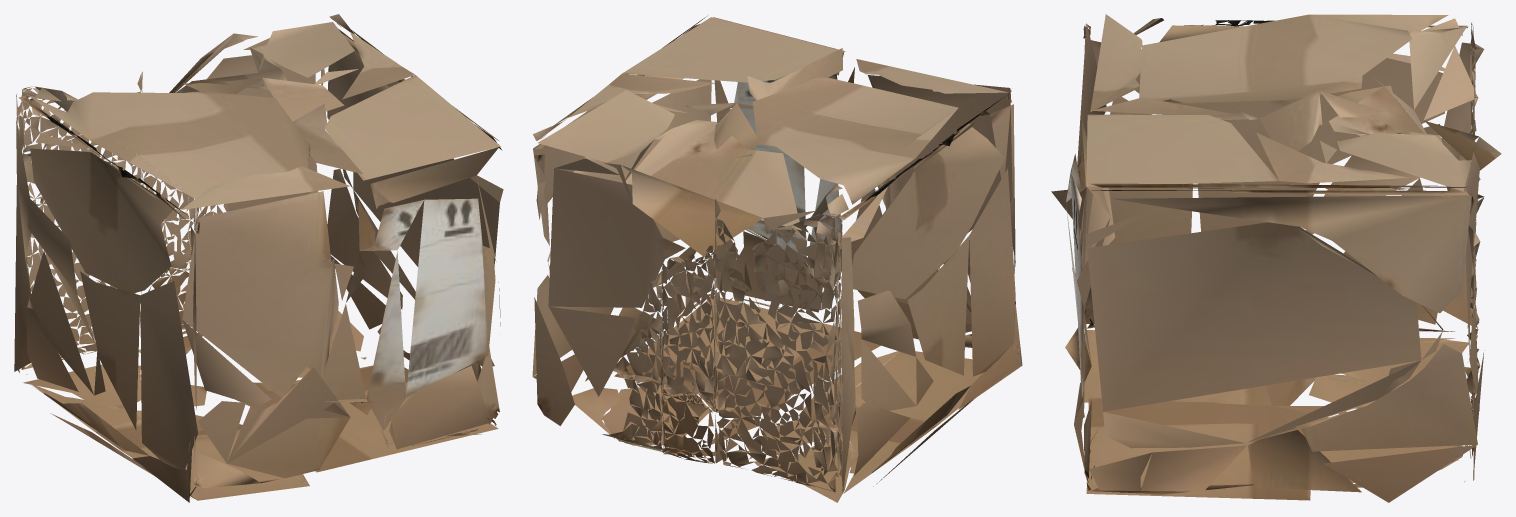
Rendered from box_label_lod2.glb.
3 views of the same model, side by side, from view 1: azimuth 30°, elevation 25°; view 2: azimuth 150°, elevation 25°; view 3: azimuth 270°, elevation 25° (orthographic). The views are drawn at different scales.
Parts seen in each view (by area): view 1: node_0; view 2: node_0; view 3: node_0.
Part boxes in pixels (x1=…): node_0: x1=14, y1=14, x2=503, y2=502; node_0: x1=532, y1=15, x2=1022, y2=502; node_0: x1=1051, y1=14, x2=1501, y2=502.
Bounding box in the file's own units: 1.27 × 1.1 × 1.27.
Materials: 1 (1 with a texture image).
